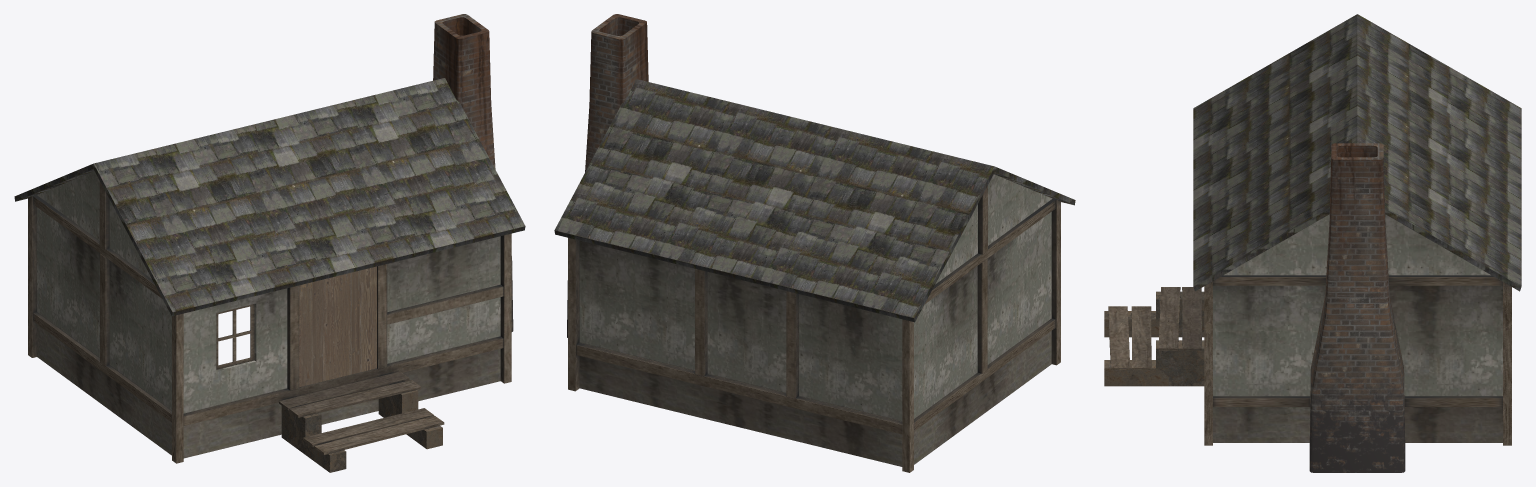
The model's file is HouseC.dae.
3 renders of one model, left to right at view 1: azimuth 30°, elevation 25°; view 2: azimuth 150°, elevation 25°; view 3: azimuth 270°, elevation 25°, orthographic. The views are drawn at different scales.
Parts seen in each view (by area): view 1: polySurface8 base_casa telhado, paredes polySurface8 base_casa, janela, base_casa polySurface9, pCube30, pCube55; view 2: polySurface8 base_casa telhado, paredes polySurface8 base_casa, janela, pCube30; view 3: polySurface8 base_casa telhado, paredes polySurface8 base_casa, pCube30, janela, pCube55.
Part boxes in pixels (x1,y1,x2,y2): polySurface8 base_casa telhado: [14, 78, 525, 316]; paredes polySurface8 base_casa: [37, 171, 500, 458]; janela: [28, 181, 511, 463]; base_casa polySurface9: [299, 266, 376, 387]; pCube30: [433, 14, 513, 331]; pCube55: [281, 390, 442, 472]; polySurface8 base_casa telhado: [554, 79, 1075, 322]; paredes polySurface8 base_casa: [579, 174, 1052, 466]; janela: [568, 185, 1060, 472]; pCube30: [567, 14, 648, 337]; polySurface8 base_casa telhado: [1193, 14, 1521, 291]; paredes polySurface8 base_casa: [1213, 214, 1502, 442]; pCube30: [1309, 143, 1405, 472]; janela: [1108, 275, 1511, 445]; pCube55: [1104, 291, 1204, 386].
Size of the model in its own units: 0.2449 by 0.2142 by 0.1736.
Materials: 6 (6 with a texture image).
